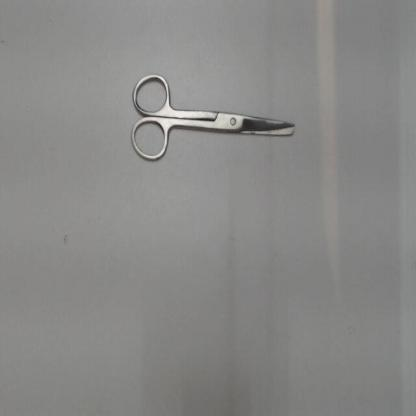Dressing Scissors: (125, 70, 305, 174)
